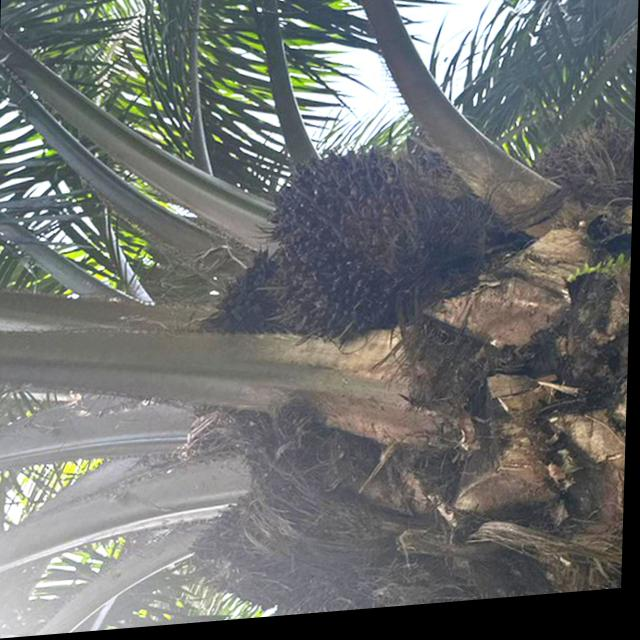ripe: (254, 151, 439, 362)
